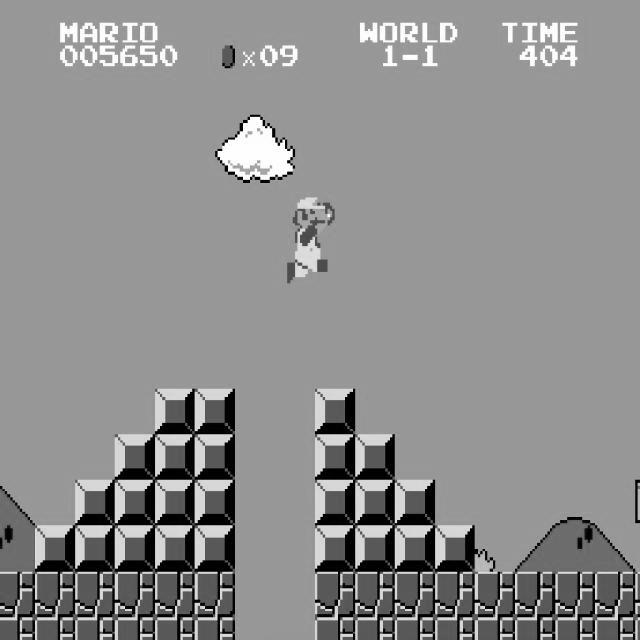14- pipe: (635, 526, 640, 572)
15- pipe_head: (635, 480, 640, 526)
17- undestructible_block: (34, 572, 76, 618), (74, 572, 116, 618), (114, 572, 156, 618), (154, 572, 196, 618), (194, 572, 236, 618), (314, 572, 356, 618), (354, 572, 396, 618), (394, 572, 436, 618), (434, 572, 476, 618), (474, 572, 516, 618), (514, 572, 556, 618), (554, 572, 596, 618), (594, 572, 636, 618), (0, 572, 35, 618), (34, 617, 76, 640), (74, 617, 116, 640), (114, 617, 156, 640), (154, 617, 196, 640), (194, 617, 236, 640), (314, 617, 356, 640), (354, 617, 396, 640), (394, 617, 436, 640), (434, 617, 476, 640), (474, 617, 516, 640), (514, 617, 556, 640), (554, 617, 596, 640), (594, 617, 636, 640), (0, 617, 35, 640), (635, 572, 640, 618), (635, 617, 640, 640)
4- fire_mario: (284, 188, 328, 282)
5- fireball: (315, 200, 335, 226)
9- hard_block: (34, 526, 76, 572), (74, 480, 116, 526), (74, 526, 116, 572), (114, 434, 156, 480), (114, 480, 156, 526), (114, 526, 156, 572), (154, 388, 196, 434), (154, 434, 196, 480), (154, 480, 196, 526), (154, 526, 196, 572), (194, 388, 236, 434), (194, 434, 236, 480), (194, 480, 236, 526), (194, 526, 236, 572), (314, 388, 356, 434), (314, 434, 356, 480), (314, 480, 356, 526), (314, 526, 356, 572), (354, 434, 396, 480), (354, 480, 396, 526), (354, 526, 396, 572), (394, 480, 436, 526), (394, 526, 436, 572), (434, 526, 476, 572)
